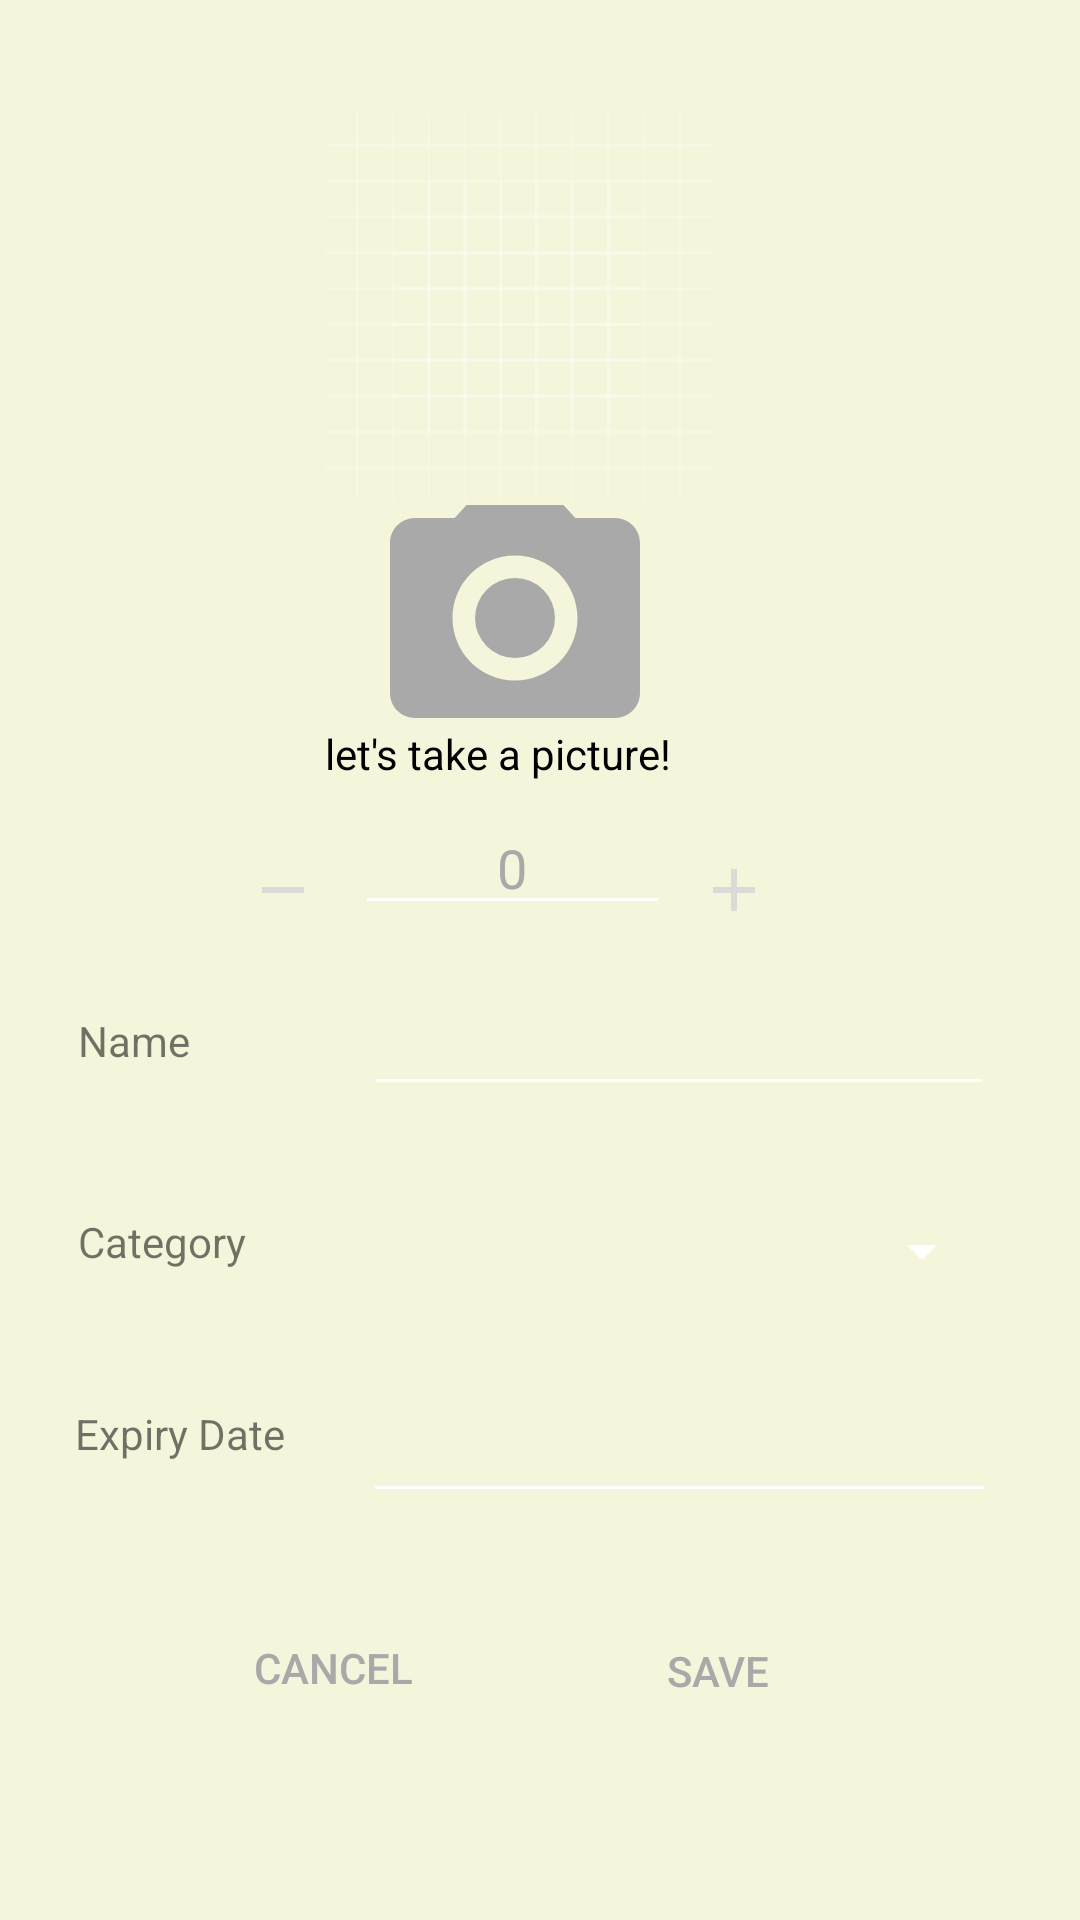

Named icons in this screenshot (1080×1920) and their bounding boxes, Rect(x1, y1, x2, y2):
add: Rect(713, 869, 755, 911)
camera: Rect(390, 505, 640, 718)
